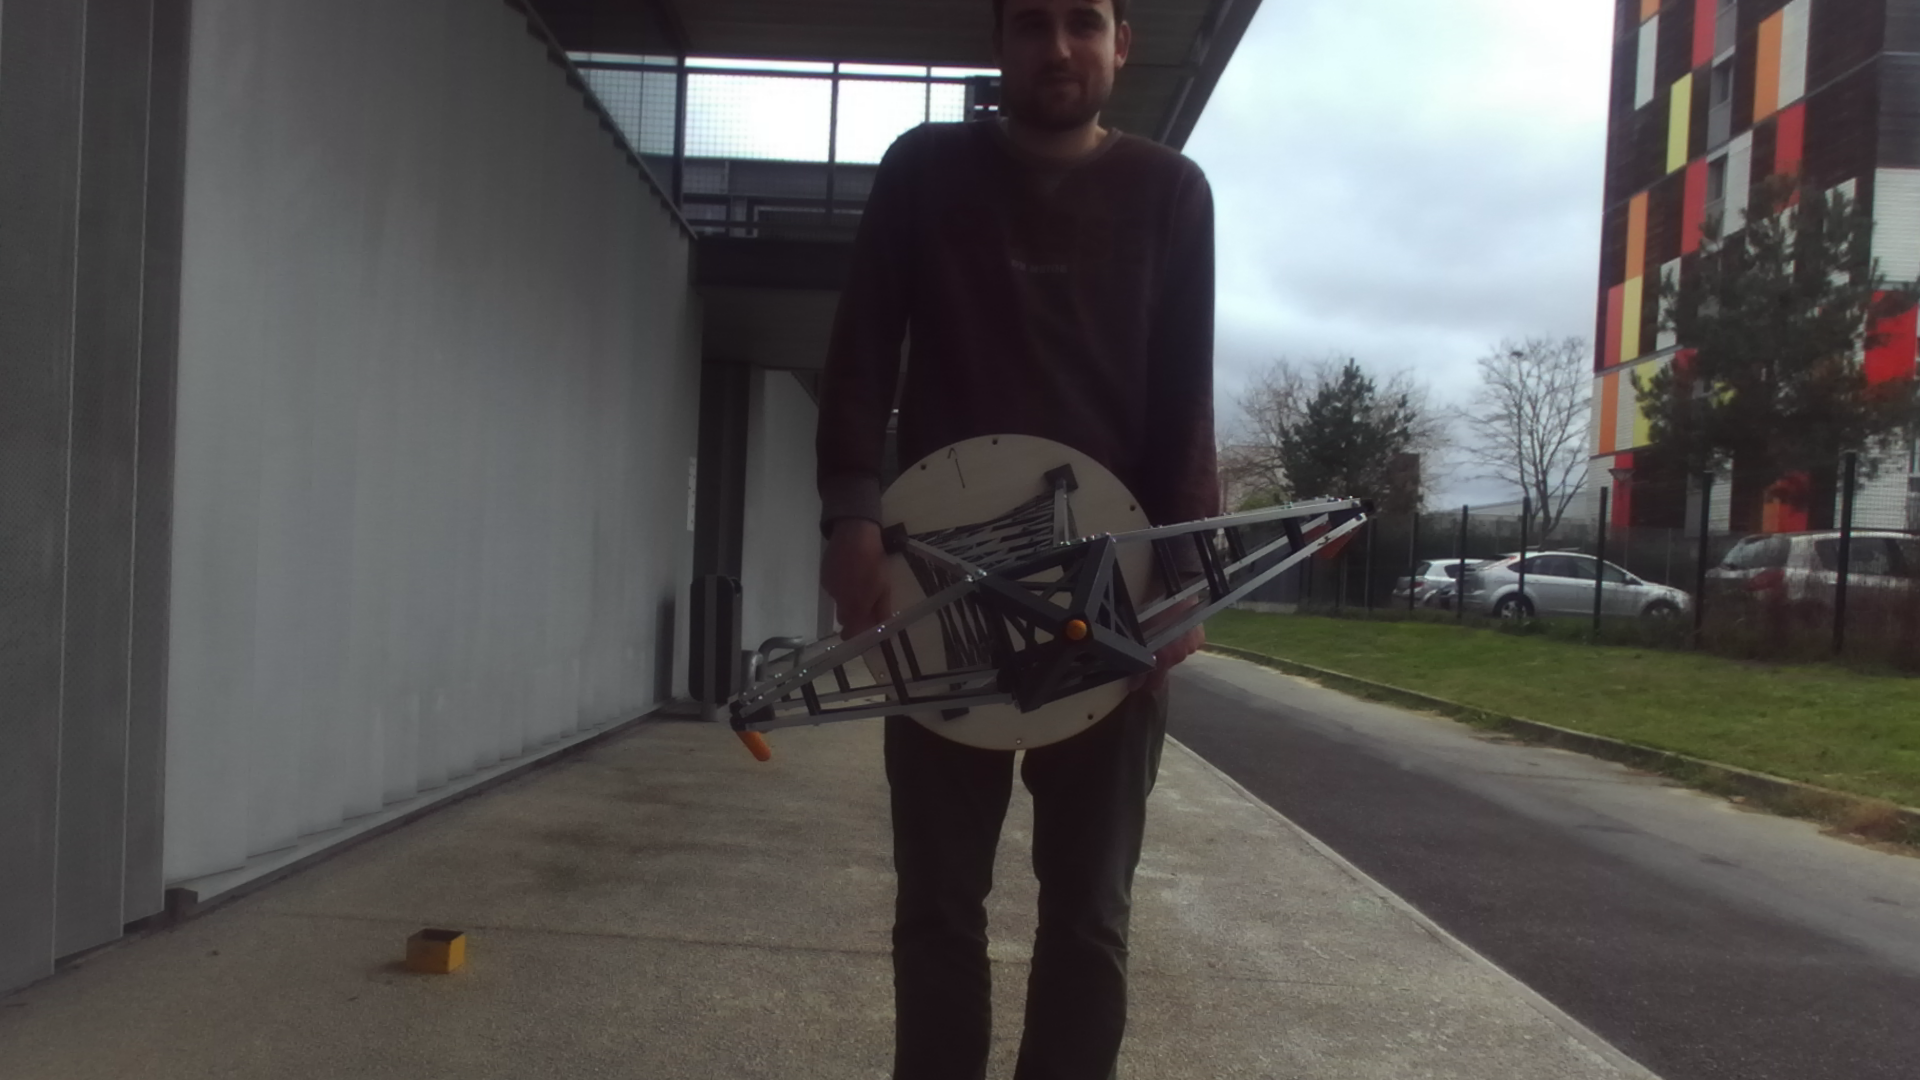pylon_phy: (724, 495, 1382, 738)
